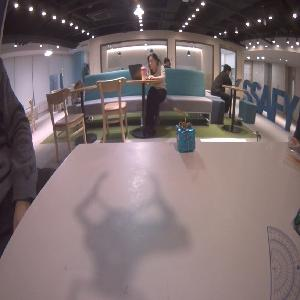box: (175, 123, 194, 156)
